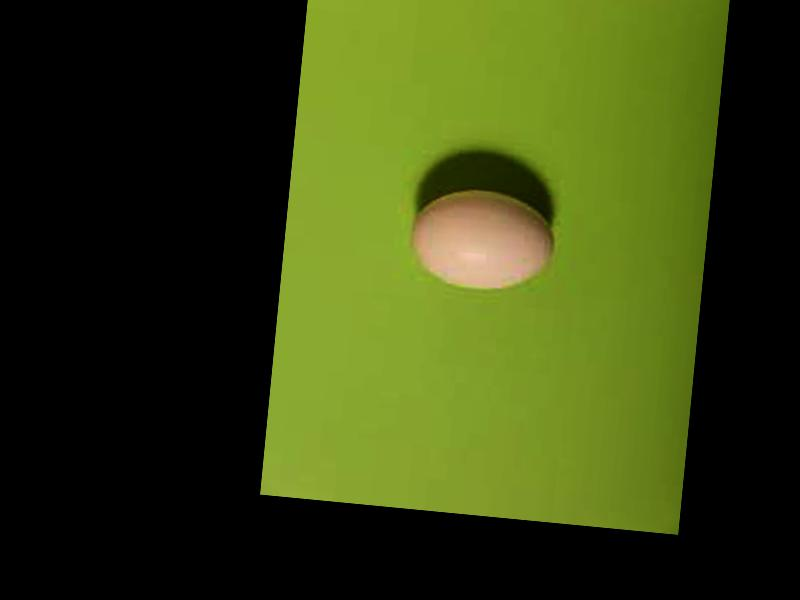Eggs: (408, 184, 561, 293)
